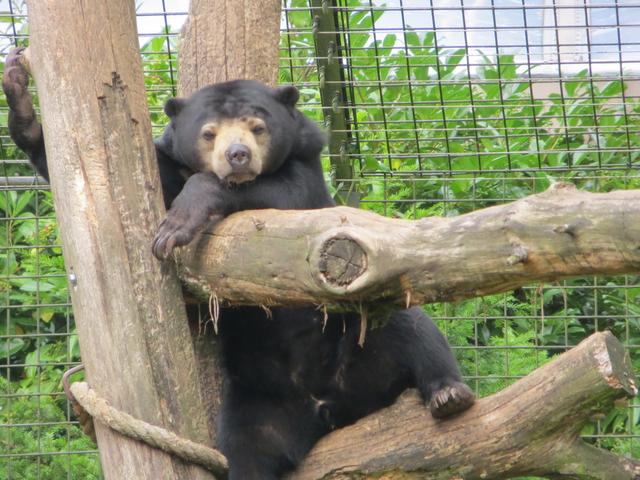bear: (40, 51, 457, 444)
